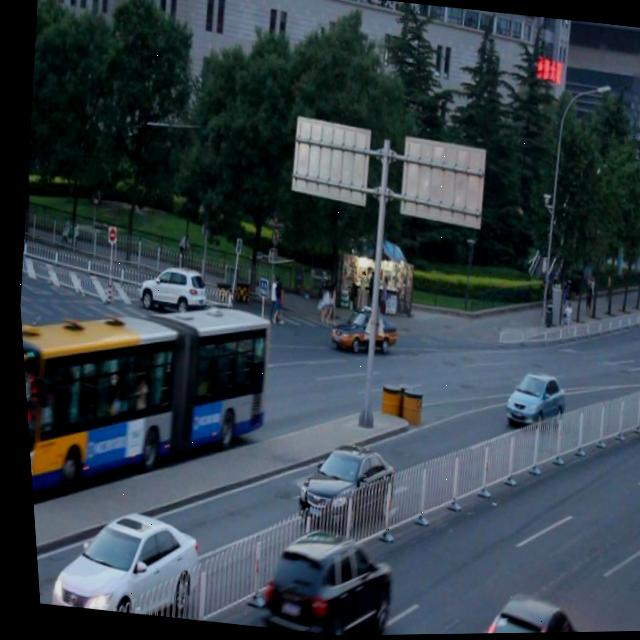car: (36, 499, 199, 622), (250, 522, 390, 637), (286, 436, 394, 537), (468, 587, 579, 635), (494, 365, 562, 432), (136, 263, 203, 320), (324, 305, 393, 358)
van: (15, 277, 276, 526)
